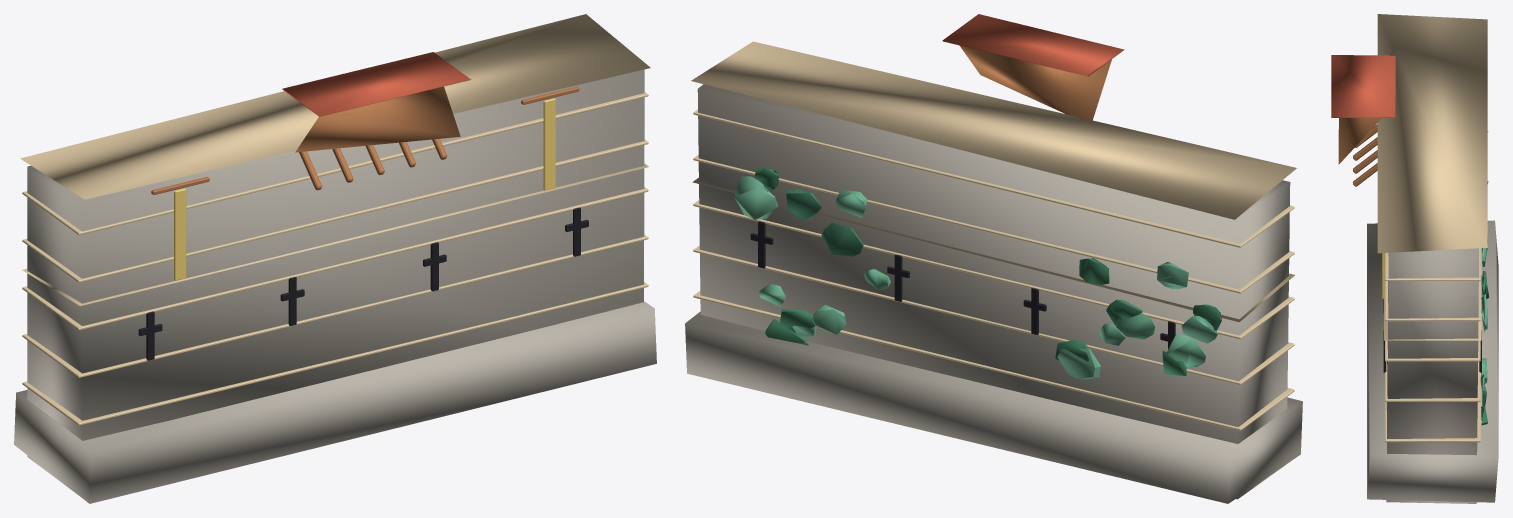
Rendered from castle_wall.glb.
3 views of the same model, side by side, from view 1: azimuth 30°, elevation 25°; view 2: azimuth 150°, elevation 25°; view 3: azimuth 270°, elevation 25° (orthographic). The views are drawn at different scales.
Parts seen in each view (by area): view 1: castle_wall; view 2: castle_wall; view 3: castle_wall.
Part boxes in pixels (x1,y1,x2,y2): castle_wall: (14, 14, 656, 503); castle_wall: (685, 14, 1302, 503); castle_wall: (1331, 14, 1498, 503).
Size of the model in its own units: 20.05 by 12.01 by 6.02.
Materials: 1 (1 with a texture image).
